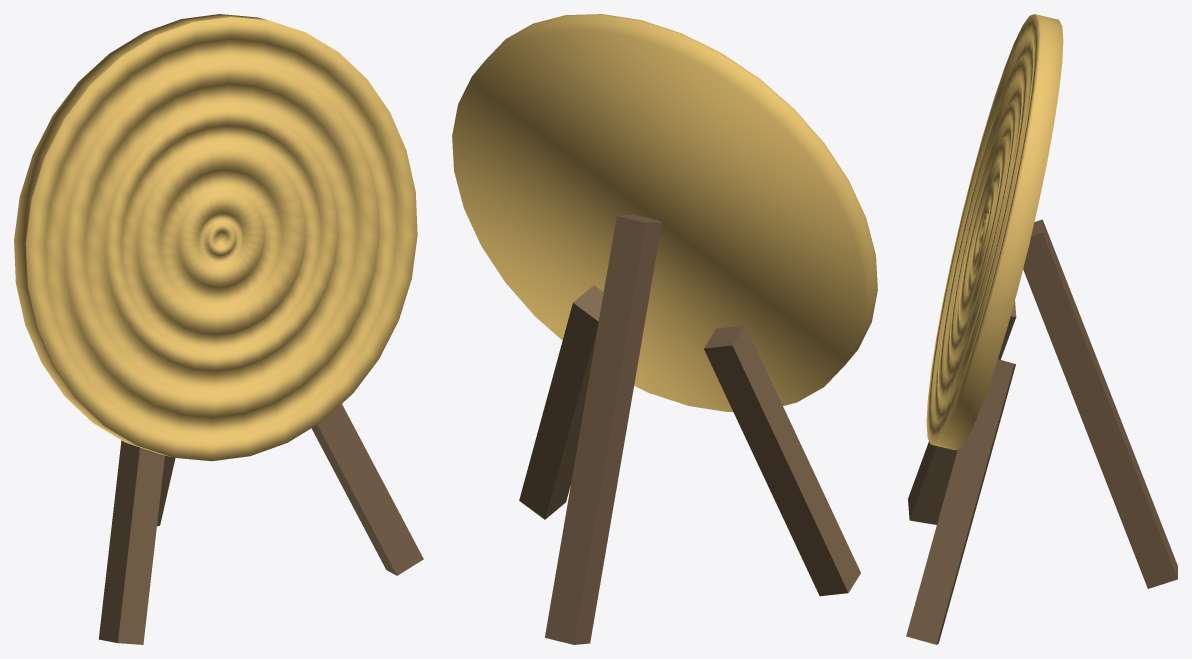
The model's file is Archery Target.fbx.
The picture shows the model from 3 angles, left to right: view 1: azimuth 30°, elevation 25°; view 2: azimuth 150°, elevation 25°; view 3: azimuth 270°, elevation 25°; orthographic projection. The views are drawn at different scales.
Parts seen in each view (by area): view 1: Cylinder, Cube, Cube.001; view 2: Cylinder, Cube.002, Cube, Cube.001; view 3: Cylinder, Cube.002, Cube.001, Cube.
Part boxes in pixels (x1=…): Cylinder: x1=14, y1=14, x2=417, y2=461; Cube: x1=98, y1=440, x2=164, y2=644; Cube.001: x1=311, y1=404, x2=423, y2=575; Cylinder: x1=452, y1=14, x2=877, y2=411; Cube.002: x1=545, y1=214, x2=661, y2=644; Cube: x1=703, y1=325, x2=860, y2=596; Cube.001: x1=519, y1=285, x2=603, y2=519; Cylinder: x1=926, y1=14, x2=1063, y2=450; Cube.002: x1=1023, y1=219, x2=1177, y2=588; Cube.001: x1=906, y1=359, x2=1015, y2=644; Cube: x1=908, y1=301, x2=1016, y2=524.
Bounding box in the file's own units: 0.9941 × 0.6099 × 1.36.
